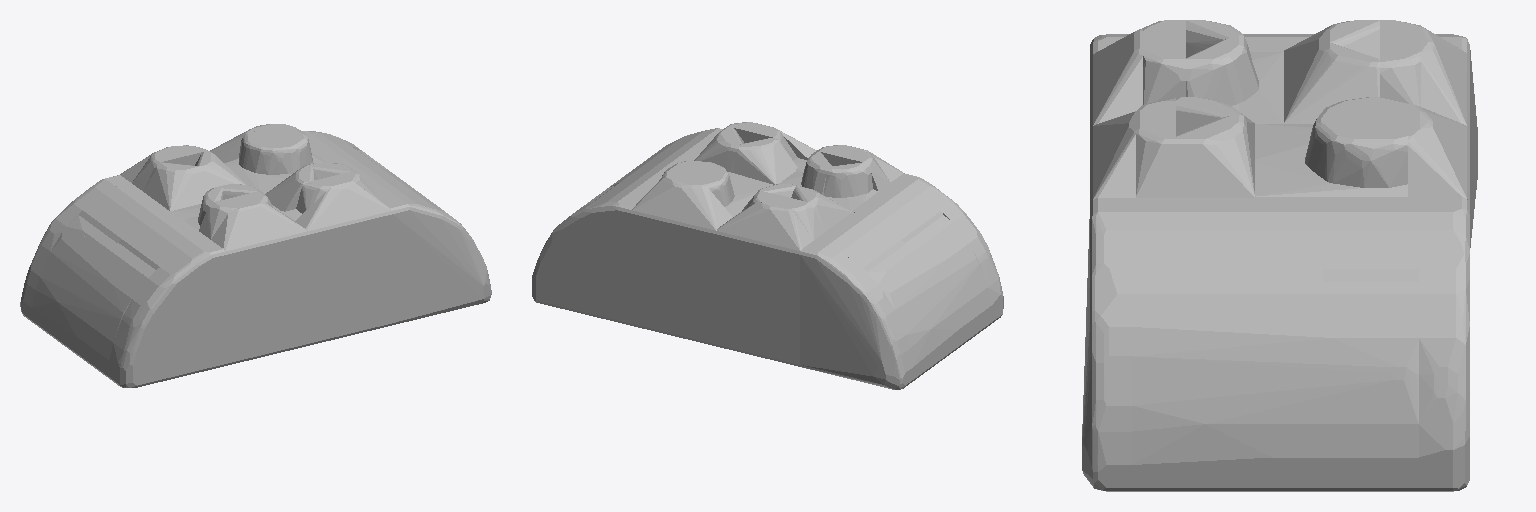
--- Facts derived from the render (not from the file) ---
3 views of the same robot in one strip: view 1: azimuth 30°, elevation 25°; view 2: azimuth 150°, elevation 25°; view 3: azimuth 270°, elevation 25° (orthographic).
Model root with 47 links and 46 joints (46 fixed), rooted at link_coacd_convex_piece_0, posed all joints at 0.
Visible links, largest first — view 1: link_coacd_convex_piece_4, link_coacd_convex_piece_7, link_coacd_convex_piece_10, link_coacd_convex_piece_9, link_coacd_convex_piece_2, link_coacd_convex_piece_12, link_coacd_convex_piece_40, link_coacd_convex_piece_46, link_coacd_convex_piece_3, link_coacd_convex_piece_26, link_coacd_convex_piece_32, link_coacd_convex_piece_41 (+8 smaller); view 2: link_coacd_convex_piece_1, link_coacd_convex_piece_8, link_coacd_convex_piece_3, link_coacd_convex_piece_9, link_coacd_convex_piece_0, link_coacd_convex_piece_40, link_coacd_convex_piece_46, link_coacd_convex_piece_4, link_coacd_convex_piece_18, link_coacd_convex_piece_12, link_coacd_convex_piece_43, link_coacd_convex_piece_41 (+9 smaller); view 3: link_coacd_convex_piece_5, link_coacd_convex_piece_0, link_coacd_convex_piece_2, link_coacd_convex_piece_38, link_coacd_convex_piece_31, link_coacd_convex_piece_12, link_coacd_convex_piece_34, link_coacd_convex_piece_16, link_coacd_convex_piece_37, link_coacd_convex_piece_1, link_coacd_convex_piece_24, link_coacd_convex_piece_10 (+14 smaller).
Boxes of the visible links, left/top/right/bottom form: link_coacd_convex_piece_4: left=109, top=240, right=225, bottom=387; link_coacd_convex_piece_7: left=295, top=183, right=392, bottom=345; link_coacd_convex_piece_10: left=211, top=203, right=307, bottom=365; link_coacd_convex_piece_9: left=32, top=227, right=147, bottom=378; link_coacd_convex_piece_2: left=381, top=197, right=491, bottom=324; link_coacd_convex_piece_12: left=239, top=124, right=312, bottom=174; link_coacd_convex_piece_40: left=79, top=183, right=169, bottom=242; link_coacd_convex_piece_46: left=119, top=211, right=209, bottom=269; link_coacd_convex_piece_3: left=20, top=175, right=130, bottom=322; link_coacd_convex_piece_26: left=143, top=162, right=208, bottom=210; link_coacd_convex_piece_32: left=199, top=191, right=272, bottom=239; link_coacd_convex_piece_41: left=67, top=215, right=155, bottom=277; link_coacd_convex_piece_1: left=631, top=176, right=732, bottom=345; link_coacd_convex_piece_8: left=716, top=202, right=813, bottom=366; link_coacd_convex_piece_3: left=800, top=241, right=913, bottom=389; link_coacd_convex_piece_9: left=879, top=222, right=991, bottom=380; link_coacd_convex_piece_0: left=532, top=194, right=641, bottom=325; link_coacd_convex_piece_40: left=814, top=212, right=904, bottom=271; link_coacd_convex_piece_46: left=852, top=183, right=942, bottom=242; link_coacd_convex_piece_4: left=891, top=173, right=1003, bottom=323; link_coacd_convex_piece_18: left=733, top=138, right=797, bottom=184; link_coacd_convex_piece_12: left=662, top=161, right=734, bottom=206; link_coacd_convex_piece_43: left=824, top=162, right=872, bottom=197; link_coacd_convex_piece_41: left=867, top=215, right=951, bottom=284; link_coacd_convex_piece_5: left=1132, top=293, right=1418, bottom=491; link_coacd_convex_piece_0: left=1419, top=197, right=1469, bottom=491; link_coacd_convex_piece_2: left=1082, top=198, right=1131, bottom=491; link_coacd_convex_piece_38: left=1162, top=198, right=1254, bottom=293; link_coacd_convex_piece_31: left=1323, top=197, right=1418, bottom=281; link_coacd_convex_piece_12: left=1305, top=97, right=1407, bottom=187; link_coacd_convex_piece_34: left=1255, top=197, right=1322, bottom=292; link_coacd_convex_piece_16: left=1176, top=116, right=1254, bottom=197; link_coacd_convex_piece_37: left=1255, top=124, right=1407, bottom=196; link_coacd_convex_piece_1: left=1408, top=103, right=1469, bottom=202; link_coacd_convex_piece_24: left=1284, top=43, right=1379, bottom=123; link_coacd_convex_piece_10: left=1090, top=28, right=1142, bottom=129.
Bounding box of the posed robot: 1.7 × 0.8867 × 0.6281 m (x, y, z).
Meshes: 47 distinct files referenced, 47 mesh visuals loaded (47 OBJ).

URDF robot description (root):
<robot name="root">
  <link name="link_coacd_convex_piece_0">
    <inertial>
      <origin xyz="0 0 0" rpy="0 0 0"/>
      <inertia ixx="2.19E-03" ixy="-2.90E-03" ixz="7.61E-04" iyy="5.16E-03" iyz="4.35E-04" izz="6.67E-03"/>
    </inertial>
    <visual>
      <origin xyz="0 0 0" rpy="0 0 0"/>
      <geometry>
        <mesh filename="coacd_convex_piece_0.obj" scale="1.0000E+00 1.0000E+00 1.0000E+00"/>
      </geometry>
      <material name="">
        <color rgba="7.50E-01 7.50E-01 7.50E-01 1"/>
      </material>
    </visual>
    <collision>
      <origin xyz="0 0 0" rpy="0 0 0"/>
      <geometry>
        <mesh filename="coacd_convex_piece_0.obj" scale="1.0000E+00 1.0000E+00 1.0000E+00"/>
      </geometry>
    </collision>
  </link>
  <link name="link_coacd_convex_piece_1">
    <inertial>
      <origin xyz="0 0 0" rpy="0 0 0"/>
      <inertia ixx="2.76E-03" ixy="-1.18E-03" ixz="2.28E-05" iyy="1.27E-03" iyz="9.00E-05" izz="3.13E-03"/>
    </inertial>
    <visual>
      <origin xyz="0 0 0" rpy="0 0 0"/>
      <geometry>
        <mesh filename="coacd_convex_piece_1.obj" scale="1.0000E+00 1.0000E+00 1.0000E+00"/>
      </geometry>
      <material name="">
        <color rgba="7.50E-01 7.50E-01 7.50E-01 1"/>
      </material>
    </visual>
    <collision>
      <origin xyz="0 0 0" rpy="0 0 0"/>
      <geometry>
        <mesh filename="coacd_convex_piece_1.obj" scale="1.0000E+00 1.0000E+00 1.0000E+00"/>
      </geometry>
    </collision>
  </link>
  <joint name="link_coacd_convex_piece_1_joint" type="fixed">
    <origin xyz="0 0 0" rpy="0 0 0"/>
    <parent link="link_coacd_convex_piece_0"/>
    <child link="link_coacd_convex_piece_1"/>
  </joint>
  <link name="link_coacd_convex_piece_2">
    <inertial>
      <origin xyz="0 0 0" rpy="0 0 0"/>
      <inertia ixx="2.01E-03" ixy="2.62E-03" ixz="6.98E-04" iyy="4.52E-03" iyz="-4.11E-04" izz="5.92E-03"/>
    </inertial>
    <visual>
      <origin xyz="0 0 0" rpy="0 0 0"/>
      <geometry>
        <mesh filename="coacd_convex_piece_2.obj" scale="1.0000E+00 1.0000E+00 1.0000E+00"/>
      </geometry>
      <material name="">
        <color rgba="7.50E-01 7.50E-01 7.50E-01 1"/>
      </material>
    </visual>
    <collision>
      <origin xyz="0 0 0" rpy="0 0 0"/>
      <geometry>
        <mesh filename="coacd_convex_piece_2.obj" scale="1.0000E+00 1.0000E+00 1.0000E+00"/>
      </geometry>
    </collision>
  </link>
  <joint name="link_coacd_convex_piece_2_joint" type="fixed">
    <origin xyz="0 0 0" rpy="0 0 0"/>
    <parent link="link_coacd_convex_piece_1"/>
    <child link="link_coacd_convex_piece_2"/>
  </joint>
  <link name="link_coacd_convex_piece_3">
    <inertial>
      <origin xyz="0 0 0" rpy="0 0 0"/>
      <inertia ixx="2.13E-03" ixy="2.82E-03" ixz="-7.43E-04" iyy="4.94E-03" iyz="4.31E-04" izz="6.43E-03"/>
    </inertial>
    <visual>
      <origin xyz="0 0 0" rpy="0 0 0"/>
      <geometry>
        <mesh filename="coacd_convex_piece_3.obj" scale="1.0000E+00 1.0000E+00 1.0000E+00"/>
      </geometry>
      <material name="">
        <color rgba="7.50E-01 7.50E-01 7.50E-01 1"/>
      </material>
    </visual>
    <collision>
      <origin xyz="0 0 0" rpy="0 0 0"/>
      <geometry>
        <mesh filename="coacd_convex_piece_3.obj" scale="1.0000E+00 1.0000E+00 1.0000E+00"/>
      </geometry>
    </collision>
  </link>
  <joint name="link_coacd_convex_piece_3_joint" type="fixed">
    <origin xyz="0 0 0" rpy="0 0 0"/>
    <parent link="link_coacd_convex_piece_2"/>
    <child link="link_coacd_convex_piece_3"/>
  </joint>
  <link name="link_coacd_convex_piece_4">
    <inertial>
      <origin xyz="0 0 0" rpy="0 0 0"/>
      <inertia ixx="2.26E-03" ixy="-3.04E-03" ixz="-7.97E-04" iyy="5.48E-03" iyz="-4.47E-04" izz="7.03E-03"/>
    </inertial>
    <visual>
      <origin xyz="0 0 0" rpy="0 0 0"/>
      <geometry>
        <mesh filename="coacd_convex_piece_4.obj" scale="1.0000E+00 1.0000E+00 1.0000E+00"/>
      </geometry>
      <material name="">
        <color rgba="7.50E-01 7.50E-01 7.50E-01 1"/>
      </material>
    </visual>
    <collision>
      <origin xyz="0 0 0" rpy="0 0 0"/>
      <geometry>
        <mesh filename="coacd_convex_piece_4.obj" scale="1.0000E+00 1.0000E+00 1.0000E+00"/>
      </geometry>
    </collision>
  </link>
  <joint name="link_coacd_convex_piece_4_joint" type="fixed">
    <origin xyz="0 0 0" rpy="0 0 0"/>
    <parent link="link_coacd_convex_piece_3"/>
    <child link="link_coacd_convex_piece_4"/>
  </joint>
  <link name="link_coacd_convex_piece_5">
    <inertial>
      <origin xyz="0 0 0" rpy="0 0 0"/>
      <inertia ixx="9.84E-04" ixy="1.15E-04" ixz="1.67E-03" iyy="9.79E-03" iyz="-2.37E-05" izz="9.88E-03"/>
    </inertial>
    <visual>
      <origin xyz="0 0 0" rpy="0 0 0"/>
      <geometry>
        <mesh filename="coacd_convex_piece_5.obj" scale="1.0000E+00 1.0000E+00 1.0000E+00"/>
      </geometry>
      <material name="">
        <color rgba="7.50E-01 7.50E-01 7.50E-01 1"/>
      </material>
    </visual>
    <collision>
      <origin xyz="0 0 0" rpy="0 0 0"/>
      <geometry>
        <mesh filename="coacd_convex_piece_5.obj" scale="1.0000E+00 1.0000E+00 1.0000E+00"/>
      </geometry>
    </collision>
  </link>
  <joint name="link_coacd_convex_piece_5_joint" type="fixed">
    <origin xyz="0 0 0" rpy="0 0 0"/>
    <parent link="link_coacd_convex_piece_4"/>
    <child link="link_coacd_convex_piece_5"/>
  </joint>
  <link name="link_coacd_convex_piece_6">
    <inertial>
      <origin xyz="0 0 0" rpy="0 0 0"/>
      <inertia ixx="2.42E-05" ixy="-7.10E-06" ixz="6.21E-06" iyy="1.68E-05" iyz="6.87E-06" izz="3.36E-05"/>
    </inertial>
    <visual>
      <origin xyz="0 0 0" rpy="0 0 0"/>
      <geometry>
        <mesh filename="coacd_convex_piece_6.obj" scale="1.0000E+00 1.0000E+00 1.0000E+00"/>
      </geometry>
      <material name="">
        <color rgba="7.50E-01 7.50E-01 7.50E-01 1"/>
      </material>
    </visual>
    <collision>
      <origin xyz="0 0 0" rpy="0 0 0"/>
      <geometry>
        <mesh filename="coacd_convex_piece_6.obj" scale="1.0000E+00 1.0000E+00 1.0000E+00"/>
      </geometry>
    </collision>
  </link>
  <joint name="link_coacd_convex_piece_6_joint" type="fixed">
    <origin xyz="0 0 0" rpy="0 0 0"/>
    <parent link="link_coacd_convex_piece_5"/>
    <child link="link_coacd_convex_piece_6"/>
  </joint>
  <link name="link_coacd_convex_piece_7">
    <inertial>
      <origin xyz="0 0 0" rpy="0 0 0"/>
      <inertia ixx="2.24E-03" ixy="9.49E-04" ixz="5.32E-05" iyy="9.75E-04" iyz="-1.27E-04" izz="2.54E-03"/>
    </inertial>
    <visual>
      <origin xyz="0 0 0" rpy="0 0 0"/>
      <geometry>
        <mesh filename="coacd_convex_piece_7.obj" scale="1.0000E+00 1.0000E+00 1.0000E+00"/>
      </geometry>
      <material name="">
        <color rgba="7.50E-01 7.50E-01 7.50E-01 1"/>
      </material>
    </visual>
    <collision>
      <origin xyz="0 0 0" rpy="0 0 0"/>
      <geometry>
        <mesh filename="coacd_convex_piece_7.obj" scale="1.0000E+00 1.0000E+00 1.0000E+00"/>
      </geometry>
    </collision>
  </link>
  <joint name="link_coacd_convex_piece_7_joint" type="fixed">
    <origin xyz="0 0 0" rpy="0 0 0"/>
    <parent link="link_coacd_convex_piece_6"/>
    <child link="link_coacd_convex_piece_7"/>
  </joint>
  <link name="link_coacd_convex_piece_8">
    <inertial>
      <origin xyz="0 0 0" rpy="0 0 0"/>
      <inertia ixx="2.32E-03" ixy="1.04E-03" ixz="-3.86E-05" iyy="1.07E-03" iyz="1.04E-04" izz="2.68E-03"/>
    </inertial>
    <visual>
      <origin xyz="0 0 0" rpy="0 0 0"/>
      <geometry>
        <mesh filename="coacd_convex_piece_8.obj" scale="1.0000E+00 1.0000E+00 1.0000E+00"/>
      </geometry>
      <material name="">
        <color rgba="7.50E-01 7.50E-01 7.50E-01 1"/>
      </material>
    </visual>
    <collision>
      <origin xyz="0 0 0" rpy="0 0 0"/>
      <geometry>
        <mesh filename="coacd_convex_piece_8.obj" scale="1.0000E+00 1.0000E+00 1.0000E+00"/>
      </geometry>
    </collision>
  </link>
  <joint name="link_coacd_convex_piece_8_joint" type="fixed">
    <origin xyz="0 0 0" rpy="0 0 0"/>
    <parent link="link_coacd_convex_piece_7"/>
    <child link="link_coacd_convex_piece_8"/>
  </joint>
  <link name="link_coacd_convex_piece_9">
    <inertial>
      <origin xyz="0 0 0" rpy="0 0 0"/>
      <inertia ixx="8.92E-04" ixy="4.37E-05" ixz="-1.60E-03" iyy="9.27E-03" iyz="2.12E-05" izz="9.31E-03"/>
    </inertial>
    <visual>
      <origin xyz="0 0 0" rpy="0 0 0"/>
      <geometry>
        <mesh filename="coacd_convex_piece_9.obj" scale="1.0000E+00 1.0000E+00 1.0000E+00"/>
      </geometry>
      <material name="">
        <color rgba="7.50E-01 7.50E-01 7.50E-01 1"/>
      </material>
    </visual>
    <collision>
      <origin xyz="0 0 0" rpy="0 0 0"/>
      <geometry>
        <mesh filename="coacd_convex_piece_9.obj" scale="1.0000E+00 1.0000E+00 1.0000E+00"/>
      </geometry>
    </collision>
  </link>
  <joint name="link_coacd_convex_piece_9_joint" type="fixed">
    <origin xyz="0 0 0" rpy="0 0 0"/>
    <parent link="link_coacd_convex_piece_8"/>
    <child link="link_coacd_convex_piece_9"/>
  </joint>
  <link name="link_coacd_convex_piece_10">
    <inertial>
      <origin xyz="0 0 0" rpy="0 0 0"/>
      <inertia ixx="2.42E-03" ixy="-1.07E-03" ixz="-4.00E-05" iyy="1.12E-03" iyz="-1.08E-04" izz="2.79E-03"/>
    </inertial>
    <visual>
      <origin xyz="0 0 0" rpy="0 0 0"/>
      <geometry>
        <mesh filename="coacd_convex_piece_10.obj" scale="1.0000E+00 1.0000E+00 1.0000E+00"/>
      </geometry>
      <material name="">
        <color rgba="7.50E-01 7.50E-01 7.50E-01 1"/>
      </material>
    </visual>
    <collision>
      <origin xyz="0 0 0" rpy="0 0 0"/>
      <geometry>
        <mesh filename="coacd_convex_piece_10.obj" scale="1.0000E+00 1.0000E+00 1.0000E+00"/>
      </geometry>
    </collision>
  </link>
  <joint name="link_coacd_convex_piece_10_joint" type="fixed">
    <origin xyz="0 0 0" rpy="0 0 0"/>
    <parent link="link_coacd_convex_piece_9"/>
    <child link="link_coacd_convex_piece_10"/>
  </joint>
  <link name="link_coacd_convex_piece_11">
    <inertial>
      <origin xyz="0 0 0" rpy="0 0 0"/>
      <inertia ixx="2.19E-05" ixy="-6.01E-05" ixz="-1.40E-05" iyy="1.94E-04" iyz="-4.31E-06" izz="2.13E-04"/>
    </inertial>
    <visual>
      <origin xyz="0 0 0" rpy="0 0 0"/>
      <geometry>
        <mesh filename="coacd_convex_piece_11.obj" scale="1.0000E+00 1.0000E+00 1.0000E+00"/>
      </geometry>
      <material name="">
        <color rgba="7.50E-01 7.50E-01 7.50E-01 1"/>
      </material>
    </visual>
    <collision>
      <origin xyz="0 0 0" rpy="0 0 0"/>
      <geometry>
        <mesh filename="coacd_convex_piece_11.obj" scale="1.0000E+00 1.0000E+00 1.0000E+00"/>
      </geometry>
    </collision>
  </link>
  <joint name="link_coacd_convex_piece_11_joint" type="fixed">
    <origin xyz="0 0 0" rpy="0 0 0"/>
    <parent link="link_coacd_convex_piece_10"/>
    <child link="link_coacd_convex_piece_11"/>
  </joint>
  <link name="link_coacd_convex_piece_12">
    <inertial>
      <origin xyz="0 0 0" rpy="0 0 0"/>
      <inertia ixx="3.57E-04" ixy="-1.31E-04" ixz="-1.81E-04" iyy="3.91E-04" iyz="-1.64E-04" izz="2.92E-04"/>
    </inertial>
    <visual>
      <origin xyz="0 0 0" rpy="0 0 0"/>
      <geometry>
        <mesh filename="coacd_convex_piece_12.obj" scale="1.0000E+00 1.0000E+00 1.0000E+00"/>
      </geometry>
      <material name="">
        <color rgba="7.50E-01 7.50E-01 7.50E-01 1"/>
      </material>
    </visual>
    <collision>
      <origin xyz="0 0 0" rpy="0 0 0"/>
      <geometry>
        <mesh filename="coacd_convex_piece_12.obj" scale="1.0000E+00 1.0000E+00 1.0000E+00"/>
      </geometry>
    </collision>
  </link>
  <joint name="link_coacd_convex_piece_12_joint" type="fixed">
    <origin xyz="0 0 0" rpy="0 0 0"/>
    <parent link="link_coacd_convex_piece_11"/>
    <child link="link_coacd_convex_piece_12"/>
  </joint>
  <link name="link_coacd_convex_piece_13">
    <inertial>
      <origin xyz="0 0 0" rpy="0 0 0"/>
      <inertia ixx="1.47E-04" ixy="-9.60E-05" ixz="1.86E-04" iyy="5.00E-04" iyz="4.11E-05" izz="4.35E-04"/>
    </inertial>
    <visual>
      <origin xyz="0 0 0" rpy="0 0 0"/>
      <geometry>
        <mesh filename="coacd_convex_piece_13.obj" scale="1.0000E+00 1.0000E+00 1.0000E+00"/>
      </geometry>
      <material name="">
        <color rgba="7.50E-01 7.50E-01 7.50E-01 1"/>
      </material>
    </visual>
    <collision>
      <origin xyz="0 0 0" rpy="0 0 0"/>
      <geometry>
        <mesh filename="coacd_convex_piece_13.obj" scale="1.0000E+00 1.0000E+00 1.0000E+00"/>
      </geometry>
    </collision>
  </link>
  <joint name="link_coacd_convex_piece_13_joint" type="fixed">
    <origin xyz="0 0 0" rpy="0 0 0"/>
    <parent link="link_coacd_convex_piece_12"/>
    <child link="link_coacd_convex_piece_13"/>
  </joint>
  <link name="link_coacd_convex_piece_14">
    <inertial>
      <origin xyz="0 0 0" rpy="0 0 0"/>
      <inertia ixx="2.18E-04" ixy="-2.64E-05" ixz="7.07E-05" iyy="1.93E-04" iyz="7.46E-05" izz="1.26E-04"/>
    </inertial>
    <visual>
      <origin xyz="0 0 0" rpy="0 0 0"/>
      <geometry>
        <mesh filename="coacd_convex_piece_14.obj" scale="1.0000E+00 1.0000E+00 1.0000E+00"/>
      </geometry>
      <material name="">
        <color rgba="7.50E-01 7.50E-01 7.50E-01 1"/>
      </material>
    </visual>
    <collision>
      <origin xyz="0 0 0" rpy="0 0 0"/>
      <geometry>
        <mesh filename="coacd_convex_piece_14.obj" scale="1.0000E+00 1.0000E+00 1.0000E+00"/>
      </geometry>
    </collision>
  </link>
  <joint name="link_coacd_convex_piece_14_joint" type="fixed">
    <origin xyz="0 0 0" rpy="0 0 0"/>
    <parent link="link_coacd_convex_piece_13"/>
    <child link="link_coacd_convex_piece_14"/>
  </joint>
  <link name="link_coacd_convex_piece_15">
    <inertial>
      <origin xyz="0 0 0" rpy="0 0 0"/>
      <inertia ixx="1.30E-04" ixy="1.78E-04" ixz="2.16E-04" iyy="7.70E-04" iyz="-5.62E-05" izz="7.44E-04"/>
    </inertial>
    <visual>
      <origin xyz="0 0 0" rpy="0 0 0"/>
      <geometry>
        <mesh filename="coacd_convex_piece_15.obj" scale="1.0000E+00 1.0000E+00 1.0000E+00"/>
      </geometry>
      <material name="">
        <color rgba="7.50E-01 7.50E-01 7.50E-01 1"/>
      </material>
    </visual>
    <collision>
      <origin xyz="0 0 0" rpy="0 0 0"/>
      <geometry>
        <mesh filename="coacd_convex_piece_15.obj" scale="1.0000E+00 1.0000E+00 1.0000E+00"/>
      </geometry>
    </collision>
  </link>
  <joint name="link_coacd_convex_piece_15_joint" type="fixed">
    <origin xyz="0 0 0" rpy="0 0 0"/>
    <parent link="link_coacd_convex_piece_14"/>
    <child link="link_coacd_convex_piece_15"/>
  </joint>
  <link name="link_coacd_convex_piece_16">
    <inertial>
      <origin xyz="0 0 0" rpy="0 0 0"/>
      <inertia ixx="3.48E-04" ixy="3.14E-04" ixz="-2.37E-04" iyy="8.14E-04" iyz="1.24E-04" izz="8.20E-04"/>
    </inertial>
    <visual>
      <origin xyz="0 0 0" rpy="0 0 0"/>
      <geometry>
        <mesh filename="coacd_convex_piece_16.obj" scale="1.0000E+00 1.0000E+00 1.0000E+00"/>
      </geometry>
      <material name="">
        <color rgba="7.50E-01 7.50E-01 7.50E-01 1"/>
      </material>
    </visual>
    <collision>
      <origin xyz="0 0 0" rpy="0 0 0"/>
      <geometry>
        <mesh filename="coacd_convex_piece_16.obj" scale="1.0000E+00 1.0000E+00 1.0000E+00"/>
      </geometry>
    </collision>
  </link>
  <joint name="link_coacd_convex_piece_16_joint" type="fixed">
    <origin xyz="0 0 0" rpy="0 0 0"/>
    <parent link="link_coacd_convex_piece_15"/>
    <child link="link_coacd_convex_piece_16"/>
  </joint>
  <link name="link_coacd_convex_piece_17">
    <inertial>
      <origin xyz="0 0 0" rpy="0 0 0"/>
      <inertia ixx="7.24E-05" ixy="6.08E-05" ixz="8.37E-05" iyy="2.09E-04" iyz="-3.11E-05" izz="1.85E-04"/>
    </inertial>
    <visual>
      <origin xyz="0 0 0" rpy="0 0 0"/>
      <geometry>
        <mesh filename="coacd_convex_piece_17.obj" scale="1.0000E+00 1.0000E+00 1.0000E+00"/>
      </geometry>
      <material name="">
        <color rgba="7.50E-01 7.50E-01 7.50E-01 1"/>
      </material>
    </visual>
    <collision>
      <origin xyz="0 0 0" rpy="0 0 0"/>
      <geometry>
        <mesh filename="coacd_convex_piece_17.obj" scale="1.0000E+00 1.0000E+00 1.0000E+00"/>
      </geometry>
    </collision>
  </link>
  <joint name="link_coacd_convex_piece_17_joint" type="fixed">
    <origin xyz="0 0 0" rpy="0 0 0"/>
    <parent link="link_coacd_convex_piece_16"/>
    <child link="link_coacd_convex_piece_17"/>
  </joint>
  <link name="link_coacd_convex_piece_18">
    <inertial>
      <origin xyz="0 0 0" rpy="0 0 0"/>
      <inertia ixx="3.27E-04" ixy="9.76E-05" ixz="-8.53E-05" iyy="2.47E-04" iyz="1.24E-04" izz="2.52E-04"/>
    </inertial>
    <visual>
      <origin xyz="0 0 0" rpy="0 0 0"/>
      <geometry>
        <mesh filename="coacd_convex_piece_18.obj" scale="1.0000E+00 1.0000E+00 1.0000E+00"/>
      </geometry>
      <material name="">
        <color rgba="7.50E-01 7.50E-01 7.50E-01 1"/>
      </material>
    </visual>
    <collision>
      <origin xyz="0 0 0" rpy="0 0 0"/>
      <geometry>
        <mesh filename="coacd_convex_piece_18.obj" scale="1.0000E+00 1.0000E+00 1.0000E+00"/>
      </geometry>
    </collision>
  </link>
  <joint name="link_coacd_convex_piece_18_joint" type="fixed">
    <origin xyz="0 0 0" rpy="0 0 0"/>
    <parent link="link_coacd_convex_piece_17"/>
    <child link="link_coacd_convex_piece_18"/>
  </joint>
  <link name="link_coacd_convex_piece_19">
    <inertial>
      <origin xyz="0 0 0" rpy="0 0 0"/>
      <inertia ixx="1.21E-04" ixy="2.42E-05" ixz="3.04E-05" iyy="8.94E-05" iyz="-5.24E-05" izz="7.64E-05"/>
    </inertial>
    <visual>
      <origin xyz="0 0 0" rpy="0 0 0"/>
      <geometry>
        <mesh filename="coacd_convex_piece_19.obj" scale="1.0000E+00 1.0000E+00 1.0000E+00"/>
      </geometry>
      <material name="">
        <color rgba="7.50E-01 7.50E-01 7.50E-01 1"/>
      </material>
    </visual>
    <collision>
      <origin xyz="0 0 0" rpy="0 0 0"/>
      <geometry>
        <mesh filename="coacd_convex_piece_19.obj" scale="1.0000E+00 1.0000E+00 1.0000E+00"/>
      </geometry>
    </collision>
  </link>
  <joint name="link_coacd_convex_piece_19_joint" type="fixed">
    <origin xyz="0 0 0" rpy="0 0 0"/>
    <parent link="link_coacd_convex_piece_18"/>
    <child link="link_coacd_convex_piece_19"/>
  </joint>
  <link name="link_coacd_convex_piece_20">
    <inertial>
      <origin xyz="0 0 0" rpy="0 0 0"/>
      <inertia ixx="6.67E-04" ixy="3.90E-04" ixz="-1.73E-04" iyy="5.23E-04" iyz="2.24E-04" izz="8.59E-04"/>
    </inertial>
    <visual>
      <origin xyz="0 0 0" rpy="0 0 0"/>
      <geometry>
        <mesh filename="coacd_convex_piece_20.obj" scale="1.0000E+00 1.0000E+00 1.0000E+00"/>
      </geometry>
      <material name="">
        <color rgba="7.50E-01 7.50E-01 7.50E-01 1"/>
      </material>
    </visual>
    <collision>
      <origin xyz="0 0 0" rpy="0 0 0"/>
      <geometry>
        <mesh filename="coacd_convex_piece_20.obj" scale="1.0000E+00 1.0000E+00 1.0000E+00"/>
      </geometry>
    </collision>
  </link>
  <joint name="link_coacd_convex_piece_20_joint" type="fixed">
    <origin xyz="0 0 0" rpy="0 0 0"/>
    <parent link="link_coacd_convex_piece_19"/>
    <child link="link_coacd_convex_piece_20"/>
  </joint>
  <link name="link_coacd_convex_piece_21">
    <inertial>
      <origin xyz="0 0 0" rpy="0 0 0"/>
      <inertia ixx="2.21E-04" ixy="-2.86E-06" ixz="8.55E-07" iyy="3.48E-05" iyz="1.47E-05" izz="1.91E-04"/>
    </inertial>
    <visual>
      <origin xyz="0 0 0" rpy="0 0 0"/>
      <geometry>
        <mesh filename="coacd_convex_piece_21.obj" scale="1.0000E+00 1.0000E+00 1.0000E+00"/>
      </geometry>
      <material name="">
        <color rgba="7.50E-01 7.50E-01 7.50E-01 1"/>
      </material>
    </visual>
    <collision>
      <origin xyz="0 0 0" rpy="0 0 0"/>
      <geometry>
        <mesh filename="coacd_convex_piece_21.obj" scale="1.0000E+00 1.0000E+00 1.0000E+00"/>
      </geometry>
    </collision>
  </link>
  <joint name="link_coacd_convex_piece_21_joint" type="fixed">
    <origin xyz="0 0 0" rpy="0 0 0"/>
    <parent link="link_coacd_convex_piece_20"/>
    <child link="link_coacd_convex_piece_21"/>
  </joint>
  <link name="link_coacd_convex_piece_22">
    <inertial>
      <origin xyz="0 0 0" rpy="0 0 0"/>
      <inertia ixx="6.77E-05" ixy="4.99E-06" ixz="5.55E-07" iyy="1.03E-05" iyz="-4.02E-06" izz="5.84E-05"/>
    </inertial>
    <visual>
      <origin xyz="0 0 0" rpy="0 0 0"/>
      <geometry>
        <mesh filename="coacd_convex_piece_22.obj" scale="1.0000E+00 1.0000E+00 1.0000E+00"/>
      </geometry>
      <material name="">
        <color rgba="7.50E-01 7.50E-01 7.50E-01 1"/>
      </material>
    </visual>
    <collision>
      <origin xyz="0 0 0" rpy="0 0 0"/>
      <geometry>
        <mesh filename="coacd_convex_piece_22.obj" scale="1.0000E+00 1.0000E+00 1.0000E+00"/>
      </geometry>
    </collision>
  </link>
  <joint name="link_coacd_convex_piece_22_joint" type="fixed">
    <origin xyz="0 0 0" rpy="0 0 0"/>
    <parent link="link_coacd_convex_piece_21"/>
    <child link="link_coacd_convex_piece_22"/>
  </joint>
  <link name="link_coacd_convex_piece_23">
    <inertial>
      <origin xyz="0 0 0" rpy="0 0 0"/>
      <inertia ixx="6.76E-04" ixy="4.02E-04" ixz="1.92E-04" iyy="5.71E-04" iyz="-2.40E-04" izz="8.85E-04"/>
    </inertial>
    <visual>
      <origin xyz="0 0 0" rpy="0 0 0"/>
      <geometry>
        <mesh filename="coacd_convex_piece_23.obj" scale="1.0000E+00 1.0000E+00 1.0000E+00"/>
      </geometry>
      <material name="">
        <color rgba="7.50E-01 7.50E-01 7.50E-01 1"/>
      </material>
    </visual>
    <collision>
      <origin xyz="0 0 0" rpy="0 0 0"/>
      <geometry>
        <mesh filename="coacd_convex_piece_23.obj" scale="1.0000E+00 1.0000E+00 1.0000E+00"/>
      </geometry>
    </collision>
  </link>
  <joint name="link_coacd_convex_piece_23_joint" type="fixed">
    <origin xyz="0 0 0" rpy="0 0 0"/>
    <parent link="link_coacd_convex_piece_22"/>
    <child link="link_coacd_convex_piece_23"/>
  </joint>
  <link name="link_coacd_convex_piece_24">
    <inertial>
      <origin xyz="0 0 0" rpy="0 0 0"/>
      <inertia ixx="3.16E-04" ixy="9.93E-05" ixz="1.01E-04" iyy="2.83E-04" iyz="-1.14E-04" izz="2.52E-04"/>
    </inertial>
    <visual>
      <origin xyz="0 0 0" rpy="0 0 0"/>
      <geometry>
        <mesh filename="coacd_convex_piece_24.obj" scale="1.0000E+00 1.0000E+00 1.0000E+00"/>
      </geometry>
      <material name="">
        <color rgba="7.50E-01 7.50E-01 7.50E-01 1"/>
      </material>
    </visual>
    <collision>
      <origin xyz="0 0 0" rpy="0 0 0"/>
      <geometry>
        <mesh filename="coacd_convex_piece_24.obj" scale="1.0000E+00 1.0000E+00 1.0000E+00"/>
      </geometry>
    </collision>
  </link>
  <joint name="link_coacd_convex_piece_24_joint" type="fixed">
    <origin xyz="0 0 0" rpy="0 0 0"/>
    <parent link="link_coacd_convex_piece_23"/>
    <child link="link_coacd_convex_piece_24"/>
  </joint>
  <link name="link_coacd_convex_piece_25">
    <inertial>
      <origin xyz="0 0 0" rpy="0 0 0"/>
      <inertia ixx="1.31E-04" ixy="2.87E-05" ixz="-4.58E-05" iyy="1.20E-04" iyz="5.22E-05" izz="8.60E-05"/>
    </inertial>
    <visual>
      <origin xyz="0 0 0" rpy="0 0 0"/>
      <geometry>
        <mesh filename="coacd_convex_piece_25.obj" scale="1.0000E+00 1.0000E+00 1.0000E+00"/>
      </geometry>
      <material name="">
        <color rgba="7.50E-01 7.50E-01 7.50E-01 1"/>
      </material>
    </visual>
    <collision>
      <origin xyz="0 0 0" rpy="0 0 0"/>
      <geometry>
        <mesh filename="coacd_convex_piece_25.obj" scale="1.0000E+00 1.0000E+00 1.0000E+00"/>
      </geometry>
    </collision>
  </link>
  <joint name="link_coacd_convex_piece_25_joint" type="fixed">
    <origin xyz="0 0 0" rpy="0 0 0"/>
    <parent link="link_coacd_convex_piece_24"/>
    <child link="link_coacd_convex_piece_25"/>
  </joint>
  <link name="link_coacd_convex_piece_26">
    <inertial>
      <origin xyz="0 0 0" rpy="0 0 0"/>
      <inertia ixx="3.30E-04" ixy="2.80E-04" ixz="2.88E-04" iyy="8.90E-04" iyz="-1.23E-04" izz="8.47E-04"/>
    </inertial>
    <visual>
      <origin xyz="0 0 0" rpy="0 0 0"/>
      <geometry>
        <mesh filename="coacd_convex_piece_26.obj" scale="1.0000E+00 1.0000E+00 1.0000E+00"/>
      </geometry>
      <material name="">
        <color rgba="7.50E-01 7.50E-01 7.50E-01 1"/>
      </material>
    </visual>
    <collision>
      <origin xyz="0 0 0" rpy="0 0 0"/>
      <geometry>
        <mesh filename="coacd_convex_piece_26.obj" scale="1.0000E+00 1.0000E+00 1.0000E+00"/>
      </geometry>
    </collision>
  </link>
  <joint name="link_coacd_convex_piece_26_joint" type="fixed">
    <origin xyz="0 0 0" rpy="0 0 0"/>
    <parent link="link_coacd_convex_piece_25"/>
    <child link="link_coacd_convex_piece_26"/>
  </joint>
  <link name="link_coacd_convex_piece_27">
    <inertial>
      <origin xyz="0 0 0" rpy="0 0 0"/>
      <inertia ixx="1.22E-04" ixy="1.14E-04" ixz="-1.39E-04" iyy="3.97E-04" iyz="4.65E-05" izz="3.69E-04"/>
    </inertial>
    <visual>
      <origin xyz="0 0 0" rpy="0 0 0"/>
      <geometry>
        <mesh filename="coacd_convex_piece_27.obj" scale="1.0000E+00 1.0000E+00 1.0000E+00"/>
      </geometry>
      <material name="">
        <color rgba="7.50E-01 7.50E-01 7.50E-01 1"/>
      </material>
    </visual>
    <collision>
      <origin xyz="0 0 0" rpy="0 0 0"/>
      <geometry>
        <mesh filename="coacd_convex_piece_27.obj" scale="1.0000E+00 1.0000E+00 1.0000E+00"/>
      </geometry>
    </collision>
  </link>
  <joint name="link_coacd_convex_piece_27_joint" type="fixed">
    <origin xyz="0 0 0" rpy="0 0 0"/>
    <parent link="link_coacd_convex_piece_26"/>
    <child link="link_coacd_convex_piece_27"/>
  </joint>
  <link name="link_coacd_convex_piece_28">
    <inertial>
      <origin xyz="0 0 0" rpy="0 0 0"/>
      <inertia ixx="1.65E-04" ixy="2.34E-04" ixz="-2.84E-04" iyy="1.13E-03" iyz="6.53E-05" izz="1.10E-03"/>
    </inertial>
    <visual>
      <origin xyz="0 0 0" rpy="0 0 0"/>
      <geometry>
        <mesh filename="coacd_convex_piece_28.obj" scale="1.0000E+00 1.0000E+00 1.0000E+00"/>
      </geometry>
      <material name="">
        <color rgba="7.50E-01 7.50E-01 7.50E-01 1"/>
      </material>
    </visual>
    <collision>
      <origin xyz="0 0 0" rpy="0 0 0"/>
      <geometry>
        <mesh filename="coacd_convex_piece_28.obj" scale="1.0000E+00 1.0000E+00 1.0000E+00"/>
      </geometry>
    </collision>
  </link>
  <joint name="link_coacd_convex_piece_28_joint" type="fixed">
    <origin xyz="0 0 0" rpy="0 0 0"/>
    <parent link="link_coacd_convex_piece_27"/>
    <child link="link_coacd_convex_piece_28"/>
  </joint>
  <link name="link_coacd_convex_piece_29">
    <inertial>
      <origin xyz="0 0 0" rpy="0 0 0"/>
      <inertia ixx="1.26E-04" ixy="-2.51E-05" ixz="-4.89E-05" iyy="1.26E-04" iyz="-4.71E-05" izz="7.89E-05"/>
    </inertial>
    <visual>
      <origin xyz="0 0 0" rpy="0 0 0"/>
      <geometry>
        <mesh filename="coacd_convex_piece_29.obj" scale="1.0000E+00 1.0000E+00 1.0000E+00"/>
      </geometry>
      <material name="">
        <color rgba="7.50E-01 7.50E-01 7.50E-01 1"/>
      </material>
    </visual>
    <collision>
      <origin xyz="0 0 0" rpy="0 0 0"/>
      <geometry>
        <mesh filename="coacd_convex_piece_29.obj" scale="1.0000E+00 1.0000E+00 1.0000E+00"/>
      </geometry>
    </collision>
  </link>
  <joint name="link_coacd_convex_piece_29_joint" type="fixed">
    <origin xyz="0 0 0" rpy="0 0 0"/>
    <parent link="link_coacd_convex_piece_28"/>
    <child link="link_coacd_convex_piece_29"/>
  </joint>
  <link name="link_coacd_convex_piece_30">
    <inertial>
      <origin xyz="0 0 0" rpy="0 0 0"/>
      <inertia ixx="1.02E-04" ixy="-7.87E-05" ixz="-1.29E-04" iyy="3.38E-04" iyz="-3.61E-05" izz="2.95E-04"/>
    </inertial>
    <visual>
      <origin xyz="0 0 0" rpy="0 0 0"/>
      <geometry>
        <mesh filename="coacd_convex_piece_30.obj" scale="1.0000E+00 1.0000E+00 1.0000E+00"/>
      </geometry>
      <material name="">
        <color rgba="7.50E-01 7.50E-01 7.50E-01 1"/>
      </material>
    </visual>
    <collision>
      <origin xyz="0 0 0" rpy="0 0 0"/>
      <geometry>
        <mesh filename="coacd_convex_piece_30.obj" scale="1.0000E+00 1.0000E+00 1.0000E+00"/>
      </geometry>
    </collision>
  </link>
  <joint name="link_coacd_convex_piece_30_joint" type="fixed">
    <origin xyz="0 0 0" rpy="0 0 0"/>
    <parent link="link_coacd_convex_piece_29"/>
    <child link="link_coacd_convex_piece_30"/>
  </joint>
  <link name="link_coacd_convex_piece_31">
    <inertial>
      <origin xyz="0 0 0" rpy="0 0 0"/>
      <inertia ixx="4.03E-04" ixy="-7.56E-04" ixz="-2.74E-04" iyy="1.98E-03" iyz="-1.14E-04" izz="2.24E-03"/>
    </inertial>
    <visual>
      <origin xyz="0 0 0" rpy="0 0 0"/>
      <geometry>
        <mesh filename="coacd_convex_piece_31.obj" scale="1.0000E+00 1.0000E+00 1.0000E+00"/>
      </geometry>
      <material name="">
        <color rgba="7.50E-01 7.50E-01 7.50E-01 1"/>
      </material>
    </visual>
    <collision>
      <origin xyz="0 0 0" rpy="0 0 0"/>
      <geometry>
        <mesh filename="coacd_convex_piece_31.obj" scale="1.0000E+00 1.0000E+00 1.0000E+00"/>
      </geometry>
    </collision>
  </link>
  <joint name="link_coacd_convex_piece_31_joint" type="fixed">
    <origin xyz="0 0 0" rpy="0 0 0"/>
    <parent link="link_coacd_convex_piece_30"/>
    <child link="link_coacd_convex_piece_31"/>
  </joint>
  <link name="link_coacd_convex_piece_32">
    <inertial>
      <origin xyz="0 0 0" rpy="0 0 0"/>
      <inertia ixx="6.12E-04" ixy="-3.75E-04" ixz="1.93E-04" iyy="5.58E-04" iyz="2.26E-04" izz="8.14E-04"/>
    </inertial>
    <visual>
      <origin xyz="0 0 0" rpy="0 0 0"/>
      <geometry>
        <mesh filename="coacd_convex_piece_32.obj" scale="1.0000E+00 1.0000E+00 1.0000E+00"/>
      </geometry>
      <material name="">
        <color rgba="7.50E-01 7.50E-01 7.50E-01 1"/>
      </material>
    </visual>
    <collision>
      <origin xyz="0 0 0" rpy="0 0 0"/>
      <geometry>
        <mesh filename="coacd_convex_piece_32.obj" scale="1.0000E+00 1.0000E+00 1.0000E+00"/>
      </geometry>
    </collision>
  </link>
  <joint name="link_coacd_convex_piece_32_joint" type="fixed">
    <origin xyz="0 0 0" rpy="0 0 0"/>
    <parent link="link_coacd_convex_piece_31"/>
    <child link="link_coacd_convex_piece_32"/>
  </joint>
  <link name="link_coacd_convex_piece_33">
    <inertial>
      <origin xyz="0 0 0" rpy="0 0 0"/>
      <inertia ixx="1.67E-04" ixy="-2.22E-04" ixz="-3.08E-04" iyy="1.21E-03" iyz="-6.32E-05" izz="1.17E-03"/>
    </inertial>
    <visual>
      <origin xyz="0 0 0" rpy="0 0 0"/>
      <geometry>
        <mesh filename="coacd_convex_piece_33.obj" scale="1.0000E+00 1.0000E+00 1.0000E+00"/>
      </geometry>
      <material name="">
        <color rgba="7.50E-01 7.50E-01 7.50E-01 1"/>
      </material>
    </visual>
    <collision>
      <origin xyz="0 0 0" rpy="0 0 0"/>
      <geometry>
        <mesh filename="coacd_convex_piece_33.obj" scale="1.0000E+00 1.0000E+00 1.0000E+00"/>
      </geometry>
    </collision>
  </link>
  <joint name="link_coacd_convex_piece_33_joint" type="fixed">
    <origin xyz="0 0 0" rpy="0 0 0"/>
    <parent link="link_coacd_convex_piece_32"/>
    <child link="link_coacd_convex_piece_33"/>
  </joint>
  <link name="link_coacd_convex_piece_34">
    <inertial>
      <origin xyz="0 0 0" rpy="0 0 0"/>
      <inertia ixx="6.29E-05" ixy="-5.79E-05" ixz="-2.05E-04" iyy="1.54E-03" iyz="-8.14E-06" izz="1.50E-03"/>
    </inertial>
    <visual>
      <origin xyz="0 0 0" rpy="0 0 0"/>
      <geometry>
        <mesh filename="coacd_convex_piece_34.obj" scale="1.0000E+00 1.0000E+00 1.0000E+00"/>
      </geometry>
      <material name="">
        <color rgba="7.50E-01 7.50E-01 7.50E-01 1"/>
      </material>
    </visual>
    <collision>
      <origin xyz="0 0 0" rpy="0 0 0"/>
      <geometry>
        <mesh filename="coacd_convex_piece_34.obj" scale="1.0000E+00 1.0000E+00 1.0000E+00"/>
      </geometry>
    </collision>
  </link>
  <joint name="link_coacd_convex_piece_34_joint" type="fixed">
    <origin xyz="0 0 0" rpy="0 0 0"/>
    <parent link="link_coacd_convex_piece_33"/>
    <child link="link_coacd_convex_piece_34"/>
  </joint>
  <link name="link_coacd_convex_piece_35">
    <inertial>
      <origin xyz="0 0 0" rpy="0 0 0"/>
      <inertia ixx="1.16E-04" ixy="-1.73E-04" ixz="1.63E-04" iyy="6.15E-04" iyz="5.09E-05" izz="6.14E-04"/>
    </inertial>
    <visual>
      <origin xyz="0 0 0" rpy="0 0 0"/>
      <geometry>
        <mesh filename="coacd_convex_piece_35.obj" scale="1.0000E+00 1.0000E+00 1.0000E+00"/>
      </geometry>
      <material name="">
        <color rgba="7.50E-01 7.50E-01 7.50E-01 1"/>
      </material>
    </visual>
    <collision>
      <origin xyz="0 0 0" rpy="0 0 0"/>
      <geometry>
        <mesh filename="coacd_convex_piece_35.obj" scale="1.0000E+00 1.0000E+00 1.0000E+00"/>
      </geometry>
    </collision>
  </link>
  <joint name="link_coacd_convex_piece_35_joint" type="fixed">
    <origin xyz="0 0 0" rpy="0 0 0"/>
    <parent link="link_coacd_convex_piece_34"/>
    <child link="link_coacd_convex_piece_35"/>
  </joint>
  <link name="link_coacd_convex_piece_36">
    <inertial>
      <origin xyz="0 0 0" rpy="0 0 0"/>
      <inertia ixx="6.01E-05" ixy="-2.72E-05" ixz="1.76E-04" iyy="7.20E-04" iyz="7.32E-06" izz="6.70E-04"/>
    </inertial>
    <visual>
      <origin xyz="0 0 0" rpy="0 0 0"/>
      <geometry>
        <mesh filename="coacd_convex_piece_36.obj" scale="1.0000E+00 1.0000E+00 1.0000E+00"/>
      </geometry>
      <material name="">
        <color rgba="7.50E-01 7.50E-01 7.50E-01 1"/>
      </material>
    </visual>
    <collision>
      <origin xyz="0 0 0" rpy="0 0 0"/>
      <geometry>
        <mesh filename="coacd_convex_piece_36.obj" scale="1.0000E+00 1.0000E+00 1.0000E+00"/>
      </geometry>
    </collision>
  </link>
  <joint name="link_coacd_convex_piece_36_joint" type="fixed">
    <origin xyz="0 0 0" rpy="0 0 0"/>
    <parent link="link_coacd_convex_piece_35"/>
    <child link="link_coacd_convex_piece_36"/>
  </joint>
  <link name="link_coacd_convex_piece_37">
    <inertial>
      <origin xyz="0 0 0" rpy="0 0 0"/>
      <inertia ixx="7.46E-04" ixy="-4.54E-04" ixz="-3.42E-04" iyy="1.25E-03" iyz="-2.13E-04" izz="1.47E-03"/>
    </inertial>
    <visual>
      <origin xyz="0 0 0" rpy="0 0 0"/>
      <geometry>
        <mesh filename="coacd_convex_piece_37.obj" scale="1.0000E+00 1.0000E+00 1.0000E+00"/>
      </geometry>
      <material name="">
        <color rgba="7.50E-01 7.50E-01 7.50E-01 1"/>
      </material>
    </visual>
    <collision>
      <origin xyz="0 0 0" rpy="0 0 0"/>
      <geometry>
        <mesh filename="coacd_convex_piece_37.obj" scale="1.0000E+00 1.0000E+00 1.0000E+00"/>
      </geometry>
    </collision>
  </link>
  <joint name="link_coacd_convex_piece_37_joint" type="fixed">
    <origin xyz="0 0 0" rpy="0 0 0"/>
    <parent link="link_coacd_convex_piece_36"/>
    <child link="link_coacd_convex_piece_37"/>
  </joint>
  <link name="link_coacd_convex_piece_38">
    <inertial>
      <origin xyz="0 0 0" rpy="0 0 0"/>
      <inertia ixx="3.02E-04" ixy="6.62E-04" ixz="-2.70E-04" iyy="2.26E-03" iyz="8.74E-05" izz="2.42E-03"/>
    </inertial>
    <visual>
      <origin xyz="0 0 0" rpy="0 0 0"/>
      <geometry>
        <mesh filename="coacd_convex_piece_38.obj" scale="1.0000E+00 1.0000E+00 1.0000E+00"/>
      </geometry>
      <material name="">
        <color rgba="7.50E-01 7.50E-01 7.50E-01 1"/>
      </material>
    </visual>
    <collision>
      <origin xyz="0 0 0" rpy="0 0 0"/>
      <geometry>
        <mesh filename="coacd_convex_piece_38.obj" scale="1.0000E+00 1.0000E+00 1.0000E+00"/>
      </geometry>
    </collision>
  </link>
  <joint name="link_coacd_convex_piece_38_joint" type="fixed">
    <origin xyz="0 0 0" rpy="0 0 0"/>
    <parent link="link_coacd_convex_piece_37"/>
    <child link="link_coacd_convex_piece_38"/>
  </joint>
  <link name="link_coacd_convex_piece_39">
    <inertial>
      <origin xyz="0 0 0" rpy="0 0 0"/>
      <inertia ixx="2.30E-04" ixy="3.61E-04" ixz="-8.79E-05" iyy="6.63E-04" iyz="5.27E-05" izz="8.50E-04"/>
    </inertial>
    <visual>
      <origin xyz="0 0 0" rpy="0 0 0"/>
      <geometry>
        <mesh filename="coacd_convex_piece_39.obj" scale="1.0000E+00 1.0000E+00 1.0000E+00"/>
      </geometry>
      <material name="">
        <color rgba="7.50E-01 7.50E-01 7.50E-01 1"/>
      </material>
    </visual>
    <collision>
      <origin xyz="0 0 0" rpy="0 0 0"/>
      <geometry>
        <mesh filename="coacd_convex_piece_39.obj" scale="1.0000E+00 1.0000E+00 1.0000E+00"/>
      </geometry>
    </collision>
  </link>
  <joint name="link_coacd_convex_piece_39_joint" type="fixed">
    <origin xyz="0 0 0" rpy="0 0 0"/>
    <parent link="link_coacd_convex_piece_38"/>
    <child link="link_coacd_convex_piece_39"/>
  </joint>
  <link name="link_coacd_convex_piece_40">
    <inertial>
      <origin xyz="0 0 0" rpy="0 0 0"/>
      <inertia ixx="4.38E-04" ixy="8.20E-04" ixz="3.74E-04" iyy="2.65E-03" iyz="-1.23E-04" izz="2.91E-03"/>
    </inertial>
    <visual>
      <origin xyz="0 0 0" rpy="0 0 0"/>
      <geometry>
        <mesh filename="coacd_convex_piece_40.obj" scale="1.0000E+00 1.0000E+00 1.0000E+00"/>
      </geometry>
      <material name="">
        <color rgba="7.50E-01 7.50E-01 7.50E-01 1"/>
      </material>
    </visual>
    <collision>
      <origin xyz="0 0 0" rpy="0 0 0"/>
      <geometry>
        <mesh filename="coacd_convex_piece_40.obj" scale="1.0000E+00 1.0000E+00 1.0000E+00"/>
      </geometry>
    </collision>
  </link>
  <joint name="link_coacd_convex_piece_40_joint" type="fixed">
    <origin xyz="0 0 0" rpy="0 0 0"/>
    <parent link="link_coacd_convex_piece_39"/>
    <child link="link_coacd_convex_piece_40"/>
  </joint>
  <link name="link_coacd_convex_piece_41">
    <inertial>
      <origin xyz="0 0 0" rpy="0 0 0"/>
      <inertia ixx="9.09E-05" ixy="5.77E-05" ixz="7.51E-05" iyy="1.18E-03" iyz="-1.23E-06" izz="1.26E-03"/>
    </inertial>
    <visual>
      <origin xyz="0 0 0" rpy="0 0 0"/>
      <geometry>
        <mesh filename="coacd_convex_piece_41.obj" scale="1.0000E+00 1.0000E+00 1.0000E+00"/>
      </geometry>
      <material name="">
        <color rgba="7.50E-01 7.50E-01 7.50E-01 1"/>
      </material>
    </visual>
    <collision>
      <origin xyz="0 0 0" rpy="0 0 0"/>
      <geometry>
        <mesh filename="coacd_convex_piece_41.obj" scale="1.0000E+00 1.0000E+00 1.0000E+00"/>
      </geometry>
    </collision>
  </link>
  <joint name="link_coacd_convex_piece_41_joint" type="fixed">
    <origin xyz="0 0 0" rpy="0 0 0"/>
    <parent link="link_coacd_convex_piece_40"/>
    <child link="link_coacd_convex_piece_41"/>
  </joint>
  <link name="link_coacd_convex_piece_42">
    <inertial>
      <origin xyz="0 0 0" rpy="0 0 0"/>
      <inertia ixx="9.06E-05" ixy="-2.12E-05" ixz="4.07E-05" iyy="9.47E-05" iyz="3.71E-05" izz="4.74E-05"/>
    </inertial>
    <visual>
      <origin xyz="0 0 0" rpy="0 0 0"/>
      <geometry>
        <mesh filename="coacd_convex_piece_42.obj" scale="1.0000E+00 1.0000E+00 1.0000E+00"/>
      </geometry>
      <material name="">
        <color rgba="7.50E-01 7.50E-01 7.50E-01 1"/>
      </material>
    </visual>
    <collision>
      <origin xyz="0 0 0" rpy="0 0 0"/>
      <geometry>
        <mesh filename="coacd_convex_piece_42.obj" scale="1.0000E+00 1.0000E+00 1.0000E+00"/>
      </geometry>
    </collision>
  </link>
  <joint name="link_coacd_convex_piece_42_joint" type="fixed">
    <origin xyz="0 0 0" rpy="0 0 0"/>
    <parent link="link_coacd_convex_piece_41"/>
    <child link="link_coacd_convex_piece_42"/>
  </joint>
  <link name="link_coacd_convex_piece_43">
    <inertial>
      <origin xyz="0 0 0" rpy="0 0 0"/>
      <inertia ixx="7.39E-05" ixy="-3.47E-05" ixz="6.11E-05" iyy="1.24E-04" iyz="3.08E-05" izz="8.71E-05"/>
    </inertial>
    <visual>
      <origin xyz="0 0 0" rpy="0 0 0"/>
      <geometry>
        <mesh filename="coacd_convex_piece_43.obj" scale="1.0000E+00 1.0000E+00 1.0000E+00"/>
      </geometry>
      <material name="">
        <color rgba="7.50E-01 7.50E-01 7.50E-01 1"/>
      </material>
    </visual>
    <collision>
      <origin xyz="0 0 0" rpy="0 0 0"/>
      <geometry>
        <mesh filename="coacd_convex_piece_43.obj" scale="1.0000E+00 1.0000E+00 1.0000E+00"/>
      </geometry>
    </collision>
  </link>
  <joint name="link_coacd_convex_piece_43_joint" type="fixed">
    <origin xyz="0 0 0" rpy="0 0 0"/>
    <parent link="link_coacd_convex_piece_42"/>
    <child link="link_coacd_convex_piece_43"/>
  </joint>
  <link name="link_coacd_convex_piece_44">
    <inertial>
      <origin xyz="0 0 0" rpy="0 0 0"/>
      <inertia ixx="8.64E-05" ixy="-5.04E-05" ixz="9.75E-05" iyy="3.70E-04" iyz="2.13E-05" izz="3.16E-04"/>
    </inertial>
    <visual>
      <origin xyz="0 0 0" rpy="0 0 0"/>
      <geometry>
        <mesh filename="coacd_convex_piece_44.obj" scale="1.0000E+00 1.0000E+00 1.0000E+00"/>
      </geometry>
      <material name="">
        <color rgba="7.50E-01 7.50E-01 7.50E-01 1"/>
      </material>
    </visual>
    <collision>
      <origin xyz="0 0 0" rpy="0 0 0"/>
      <geometry>
        <mesh filename="coacd_convex_piece_44.obj" scale="1.0000E+00 1.0000E+00 1.0000E+00"/>
      </geometry>
    </collision>
  </link>
  <joint name="link_coacd_convex_piece_44_joint" type="fixed">
    <origin xyz="0 0 0" rpy="0 0 0"/>
    <parent link="link_coacd_convex_piece_43"/>
    <child link="link_coacd_convex_piece_44"/>
  </joint>
  <link name="link_coacd_convex_piece_45">
    <inertial>
      <origin xyz="0 0 0" rpy="0 0 0"/>
      <inertia ixx="2.58E-04" ixy="-2.16E-04" ixz="1.12E-04" iyy="4.50E-04" iyz="8.67E-05" izz="5.42E-04"/>
    </inertial>
    <visual>
      <origin xyz="0 0 0" rpy="0 0 0"/>
      <geometry>
        <mesh filename="coacd_convex_piece_45.obj" scale="1.0000E+00 1.0000E+00 1.0000E+00"/>
      </geometry>
      <material name="">
        <color rgba="7.50E-01 7.50E-01 7.50E-01 1"/>
      </material>
    </visual>
    <collision>
      <origin xyz="0 0 0" rpy="0 0 0"/>
      <geometry>
        <mesh filename="coacd_convex_piece_45.obj" scale="1.0000E+00 1.0000E+00 1.0000E+00"/>
      </geometry>
    </collision>
  </link>
  <joint name="link_coacd_convex_piece_45_joint" type="fixed">
    <origin xyz="0 0 0" rpy="0 0 0"/>
    <parent link="link_coacd_convex_piece_44"/>
    <child link="link_coacd_convex_piece_45"/>
  </joint>
  <link name="link_coacd_convex_piece_46">
    <inertial>
      <origin xyz="0 0 0" rpy="0 0 0"/>
      <inertia ixx="3.82E-04" ixy="-7.17E-04" ixz="3.81E-04" iyy="2.60E-03" iyz="1.14E-04" izz="2.79E-03"/>
    </inertial>
    <visual>
      <origin xyz="0 0 0" rpy="0 0 0"/>
      <geometry>
        <mesh filename="coacd_convex_piece_46.obj" scale="1.0000E+00 1.0000E+00 1.0000E+00"/>
      </geometry>
      <material name="">
        <color rgba="7.50E-01 7.50E-01 7.50E-01 1"/>
      </material>
    </visual>
    <collision>
      <origin xyz="0 0 0" rpy="0 0 0"/>
      <geometry>
        <mesh filename="coacd_convex_piece_46.obj" scale="1.0000E+00 1.0000E+00 1.0000E+00"/>
      </geometry>
    </collision>
  </link>
  <joint name="link_coacd_convex_piece_46_joint" type="fixed">
    <origin xyz="0 0 0" rpy="0 0 0"/>
    <parent link="link_coacd_convex_piece_45"/>
    <child link="link_coacd_convex_piece_46"/>
  </joint>
</robot>
